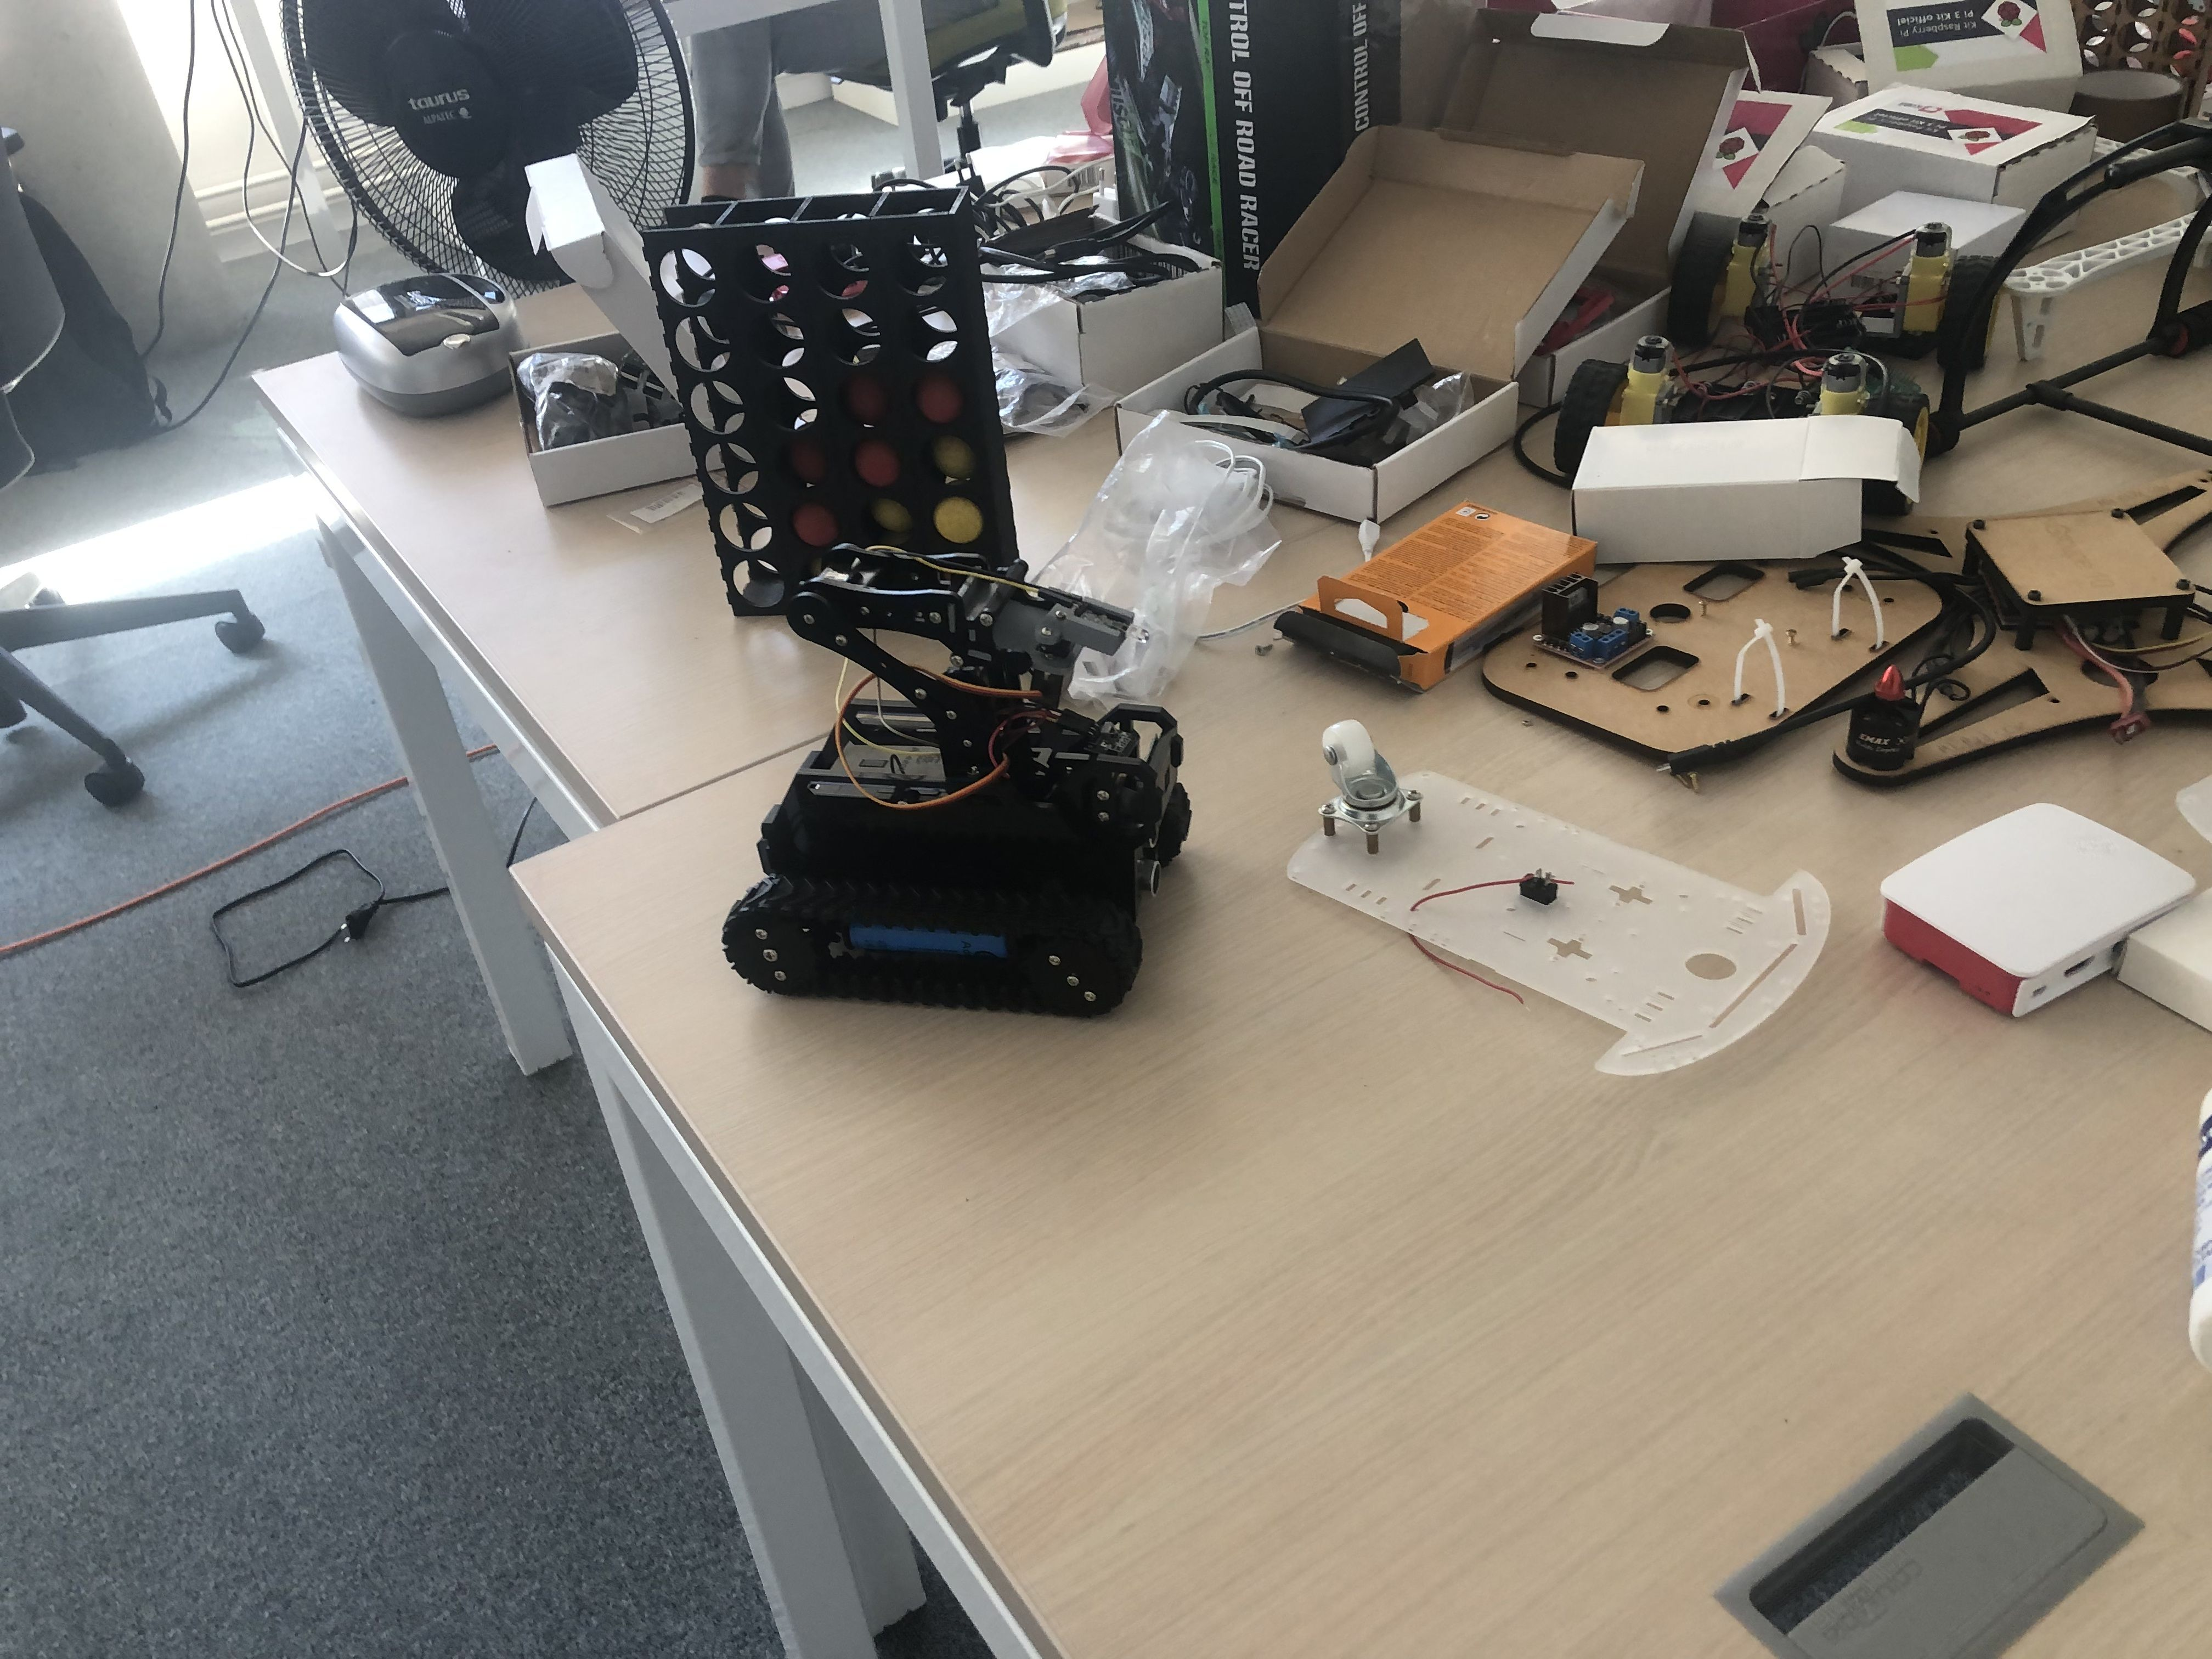rasptank: (719, 551, 1197, 1012)
